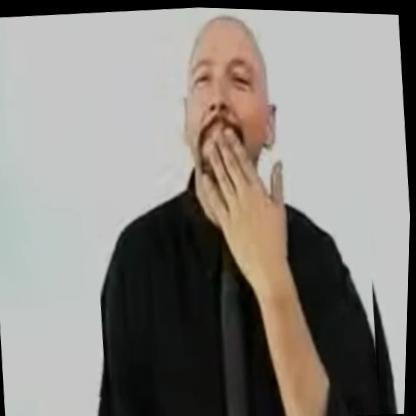ThankYou: (75, 2, 392, 416)
